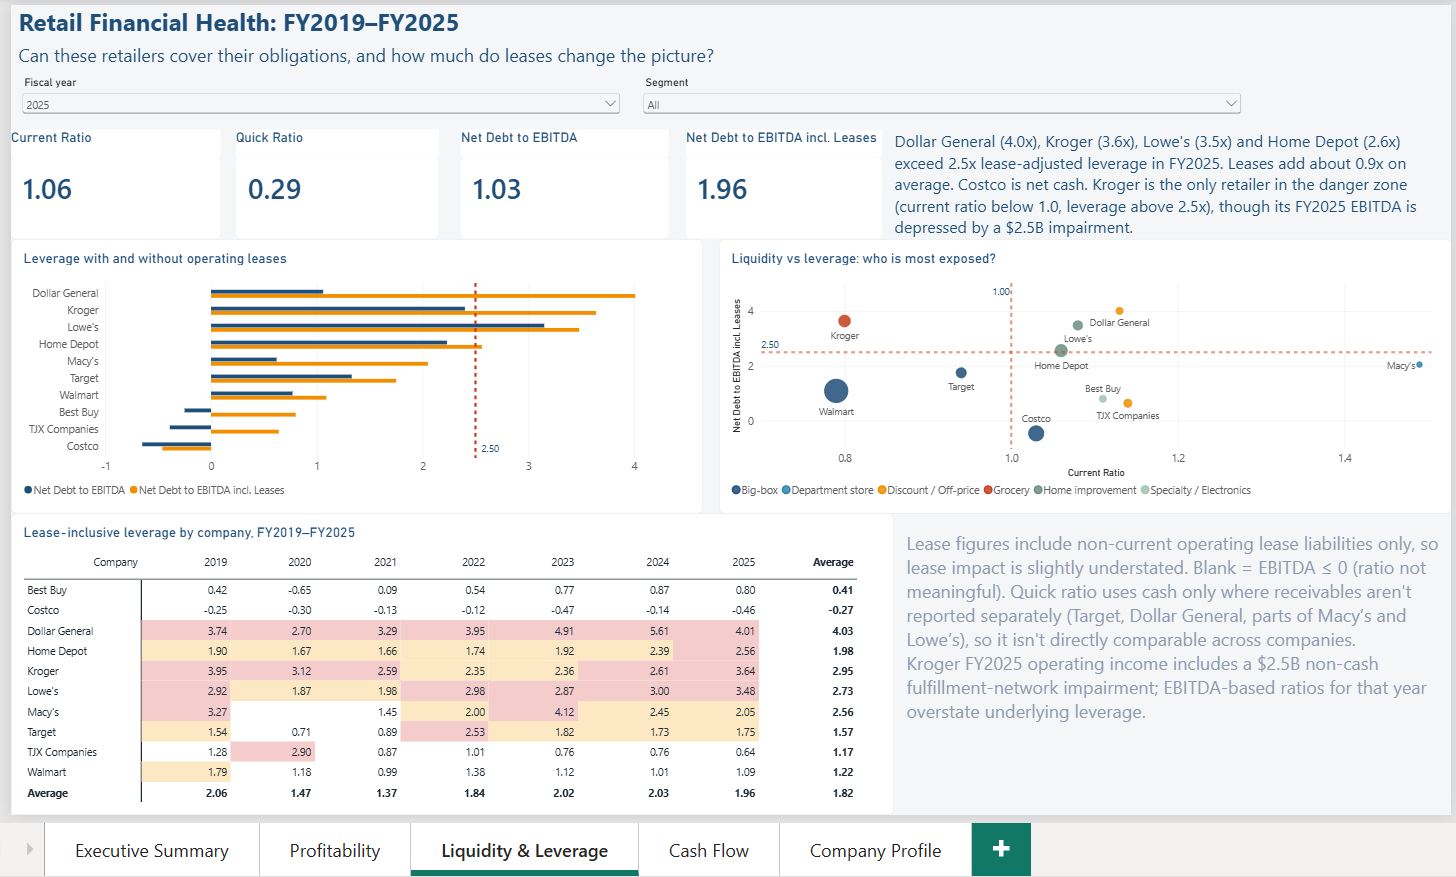

Layout of this report page (visuals, bound fields, positions):
{"tool":"powerbi","page":{"name":"Liquidity & Leverage","canvas":[1920,1080],"ordinal":2},"visuals":[{"type":"textbox","box":[9.1,0,665.9,50],"z":0},{"type":"textbox","box":[9.1,50,975,43.2],"z":1000},{"type":"slicer","fields":{"Values":["analytics v_ratios.fiscal_year"]},"box":[9.1,93.2,806.8,72.7],"z":2000},{"type":"slicer","fields":{"Values":["analytics companies.segment"]},"box":[838.6,93.2,806.8,72.7],"z":3000},{"type":"cardVisual","title":"Current Ratio","fields":{"Data":["analytics v_ratios.Current Ratio"]},"box":[0,165.9,279.5,145.5],"z":4000},{"type":"cardVisual","title":"Quick Ratio","fields":{"Data":["analytics v_ratios.Quick Ratio"]},"box":[309.1,165.9,270.5,145.5],"z":5000},{"type":"cardVisual","title":"Net Debt to EBITDA","fields":{"Data":["analytics v_ratios.Net Debt to EBITDA"]},"box":[600,165.9,277.3,145.5],"z":6000},{"type":"cardVisual","title":"Net Debt to EBITDA incl. Leases","fields":{"Data":["analytics v_ratios.Net Debt to EBITDA incl. Leases"]},"box":[900,165.9,261.4,145.5],"z":7000},{"type":"clusteredBarChart","title":"Leverage with and without operating leases","fields":{"Category":["analytics companies.company_name"],"Y":["analytics v_ratios.Net Debt to EBITDA","analytics v_ratios.Net Debt to EBITDA incl. Leases"]},"box":[0,311.4,922.7,365.9],"z":8000},{"type":"scatterChart","title":"Liquidity vs leverage: who is most exposed?","fields":{"Category":["analytics companies.company_name"],"Series":["analytics companies.segment"],"Size":["analytics v_ratios.Revenue ($M)"],"X":["analytics v_ratios.Current Ratio"],"Y":["analytics v_ratios.Net Debt to EBITDA incl. Leases"]},"box":[943.2,311.4,977.3,365.9],"z":9000},{"type":"pivotTable","title":"Lease-inclusive leverage by company, FY2019–FY2025","fields":{"Columns":["analytics v_ratios.fiscal_year"],"Rows":["analytics companies.company_name"],"Values":["analytics v_ratios.Net Debt to EBITDA incl. Leases"]},"box":[0,677.3,1177.3,402.3],"z":10000},{"type":"textbox","box":[1194.3,700,725.7,285.7],"z":11000},{"type":"textbox","box":[1177.3,165.9,743.2,145.5],"z":12000}]}

Visuals, with their boxes on the page's 1920x1080 design canvas (x1, y1, x2, y2). These are canvas units, not pixel positions in the 1456x877 screenshot, which may show the page scaled, cropped or inside an application window:
textbox: 9:0:675:50
textbox: 9:50:984:93
slicer - analytics v_ratios.fiscal_year: 9:93:816:166
slicer - analytics companies.segment: 839:93:1645:166
"Current Ratio" cardVisual: 0:166:280:311
"Quick Ratio" cardVisual: 309:166:580:311
"Net Debt to EBITDA" cardVisual: 600:166:877:311
"Net Debt to EBITDA incl. Leases" cardVisual: 900:166:1161:311
"Leverage with and without operating leases" clusteredBarChart: 0:311:923:677
"Liquidity vs leverage: who is most exposed?" scatterChart: 943:311:1920:677
"Lease-inclusive leverage by company, FY2019–FY2025" pivotTable: 0:677:1177:1080
textbox: 1194:700:1920:986
textbox: 1177:166:1920:311
